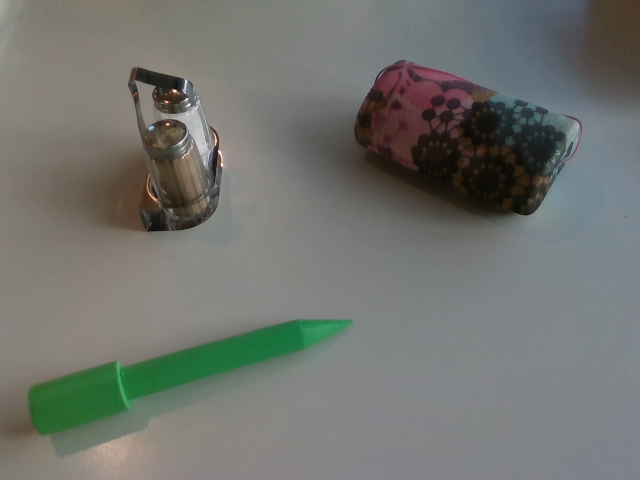Probe: (29, 312, 358, 437)
